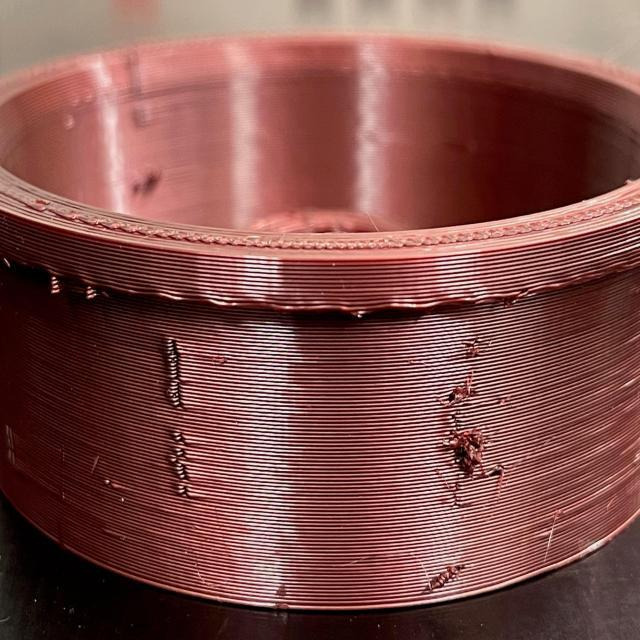cracks: (422, 352, 528, 520), (139, 329, 225, 518)
